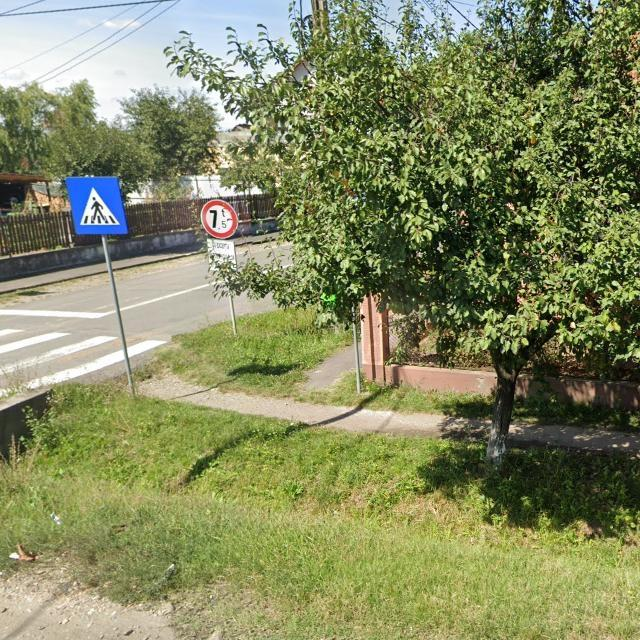info_crosswalk: (65, 176, 129, 234)
